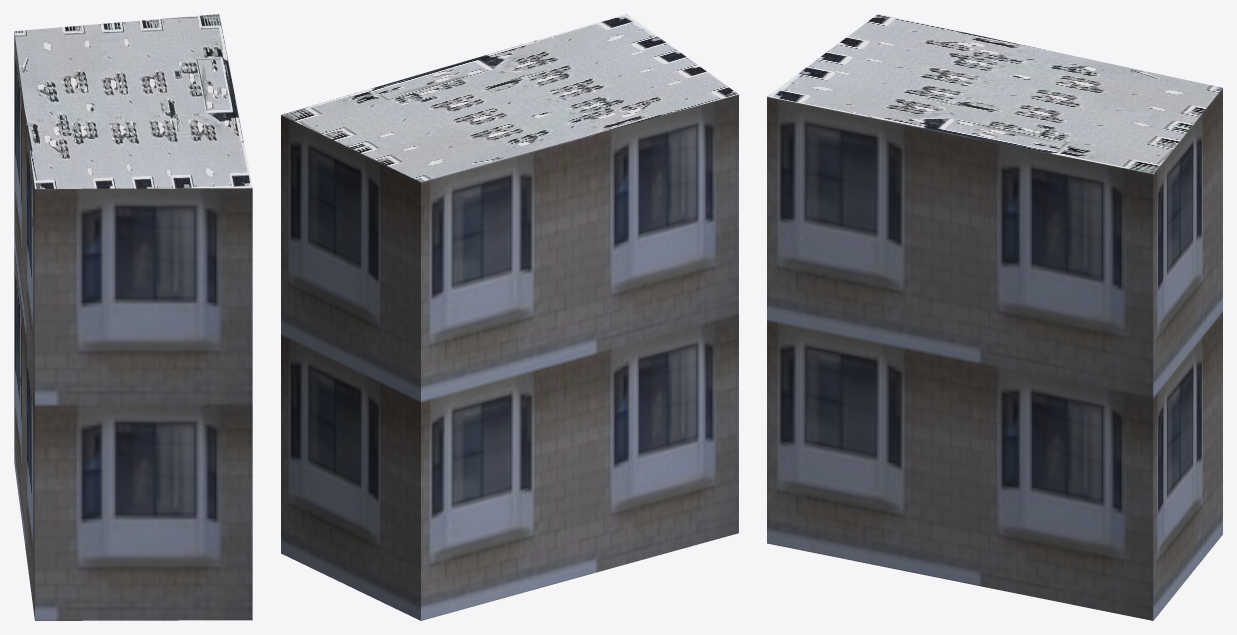
File: ResTex__695.fbx
The picture shows the model from 3 angles, left to right: view 1: azimuth 30°, elevation 25°; view 2: azimuth 150°, elevation 25°; view 3: azimuth 270°, elevation 25°; orthographic projection. The views are drawn at different scales.
Parts seen in each view (by area): view 1: CityEngineMaterial_3_m, CityEngineMaterial_m; view 2: CityEngineMaterial_3_m, CityEngineMaterial_m; view 3: CityEngineMaterial_3_m, CityEngineMaterial_m.
Boxes of the visible parts, left/top/right/bottom form: CityEngineMaterial_3_m: left=14, top=32, right=252, bottom=620; CityEngineMaterial_m: left=14, top=14, right=252, bottom=188; CityEngineMaterial_3_m: left=281, top=94, right=738, bottom=620; CityEngineMaterial_m: left=281, top=14, right=738, bottom=181; CityEngineMaterial_3_m: left=767, top=88, right=1222, bottom=620; CityEngineMaterial_m: left=767, top=14, right=1222, bottom=174.
Bounding box in the file's own units: 4.62 × 6 × 5.55.
Materials: 2 (2 with a texture image).
